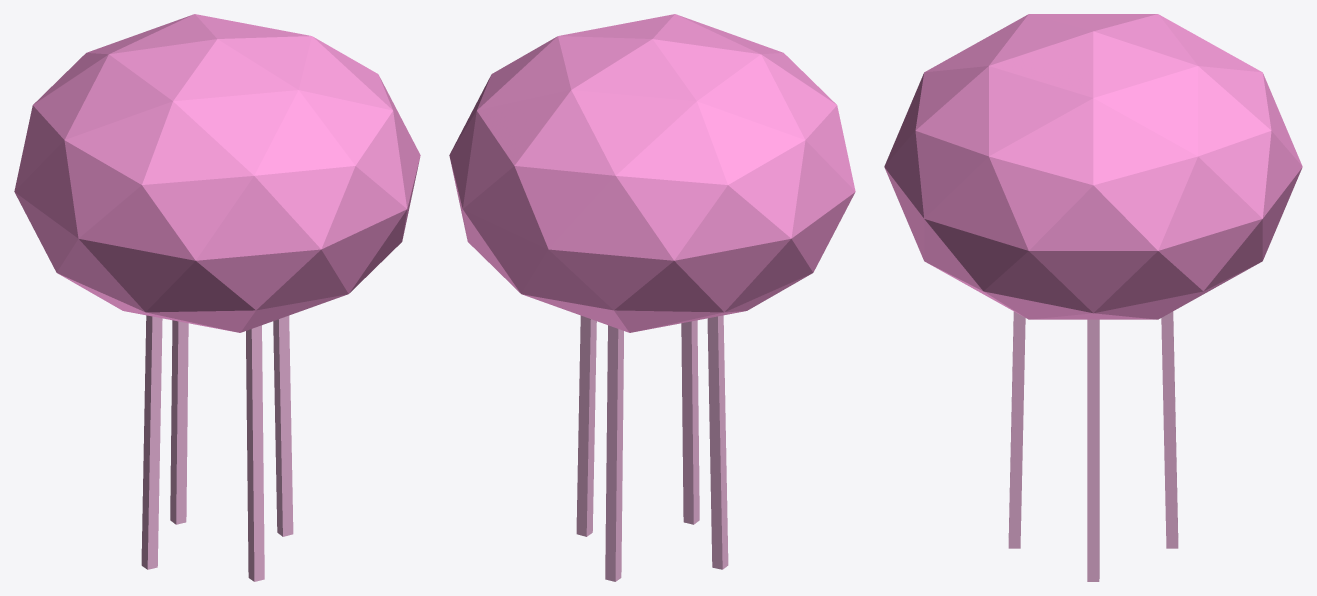
The model's file is Scuba_Jellyfish.fbx.
3 views of the same model, side by side, from view 1: azimuth 30°, elevation 25°; view 2: azimuth 150°, elevation 25°; view 3: azimuth 270°, elevation 25° (orthographic).
Visible parts, largest first — view 1: Jellyfish; view 2: Jellyfish; view 3: Jellyfish.
Boxes of the visible parts, box(x1,y1,x2,y2) form: Jellyfish: box(14, 14, 420, 581); Jellyfish: box(449, 14, 855, 581); Jellyfish: box(884, 14, 1302, 581).
Bounding box in the file's own units: 0.6657 × 0.9502 × 0.7.
